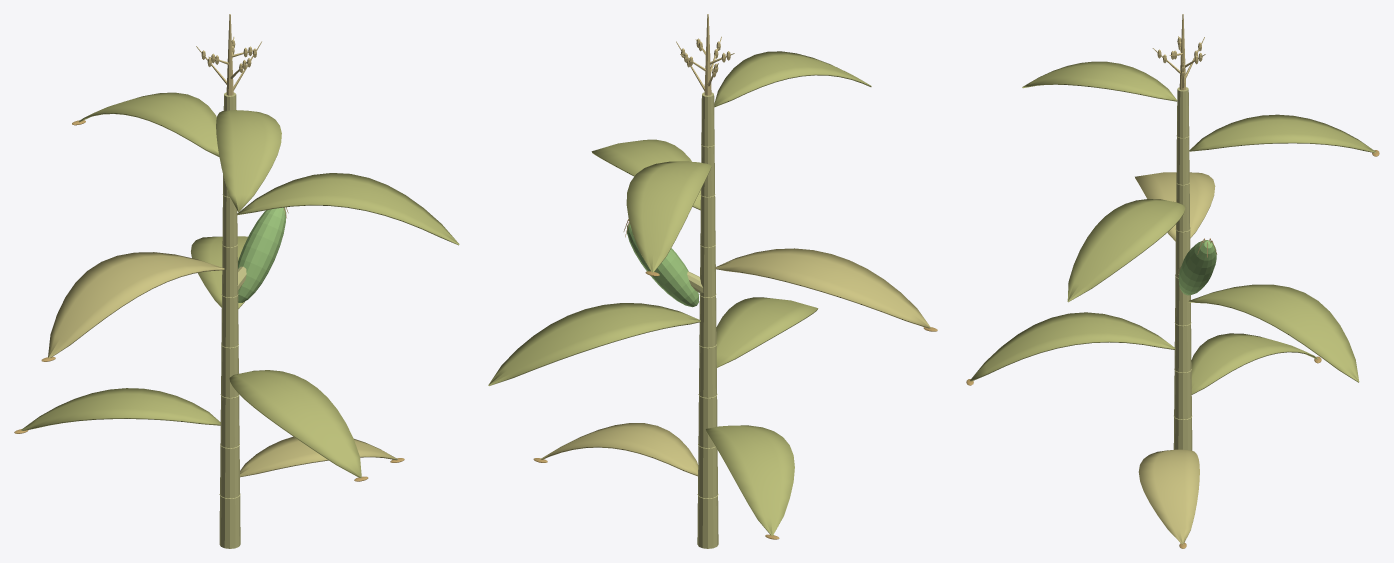
3 renders of one model, left to right at view 1: azimuth 30°, elevation 25°; view 2: azimuth 150°, elevation 25°; view 3: azimuth 270°, elevation 25°, orthographic. The views are drawn at different scales.
Parts seen in each view (by area): view 1: 叶片_05, 叶片_03, 叶片_06, 叶片_08, 叶片_02, 叶片_07, 雌穗_瘦小_苞叶包裹果穗, 叶片_01, 叶片_04, 茎节_01, 茎节_02, 茎节_03 (+4 smaller); view 2: 叶片_04, 叶片_05, 叶片_07, 叶片_02, 叶片_03, 叶片_08, 叶片_01, 叶片_06, 雌穗_瘦小_苞叶包裹果穗, 茎节_01, 茎节_02, 茎节_04 (+6 smaller); view 3: 叶片_04, 叶片_06, 叶片_03, 叶片_01, 叶片_07, 叶片_02, 叶片_08, 叶片_05, 雌穗_瘦小_苞叶包裹果穗, 茎节_03, 茎节_04, 茎节_08 (+5 smaller).
Part boxes in pixels (x1,y1,x2,y2): 叶片_05: (48,252,224,358); 叶片_03: (229,370,361,477); 叶片_06: (237,173,459,245); 叶片_08: (216,110,281,212); 叶片_02: (21,388,220,430); 叶片_07: (78,92,219,157); 雌穗_瘦小_苞叶包裹果穗: (238,207,286,302); 叶片_01: (240,436,397,477); 叶片_04: (191,236,247,308); 茎节_01: (219,495,240,548); 茎节_02: (220,445,240,498); 茎节_03: (220,395,239,448); 叶片_04: (488,303,700,385); 叶片_05: (715,248,930,328); 叶片_07: (626,161,711,272); 叶片_02: (706,425,794,535); 叶片_03: (716,297,818,367); 叶片_08: (714,51,871,107); 叶片_01: (540,423,698,476); 叶片_06: (591,139,700,210); 雌穗_瘦小_苞叶包裹果穗: (627,223,698,307); 茎节_01: (697,496,718,548); 茎节_02: (698,445,717,498); 茎节_04: (699,345,716,397); 叶片_04: (1188,284,1359,382); 叶片_06: (1067,199,1185,302); 叶片_03: (970,312,1175,381); 叶片_01: (1138,449,1199,544); 叶片_07: (1189,114,1375,152); 叶片_02: (1191,333,1318,394); 叶片_08: (1022,61,1177,101); 叶片_05: (1135,172,1215,241); 雌穗_瘦小_苞叶包裹果穗: (1178,240,1216,295); 茎节_03: (1174,370,1191,419); 茎节_04: (1174,324,1191,372); 茎节_08: (1176,136,1189,184).
Bounding box in the file's own units: 1.2 × 1.59 × 1.2.
